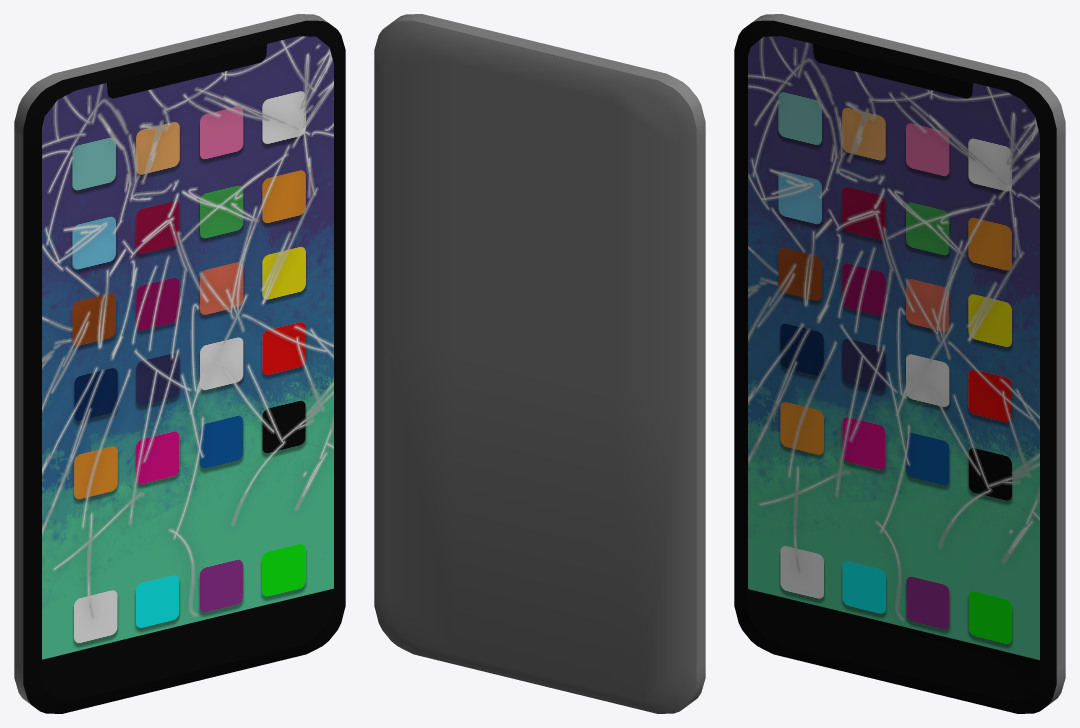
Rendered from Phone.fbx.
The picture shows the model from 3 angles, left to right: view 1: azimuth 30°, elevation 25°; view 2: azimuth 150°, elevation 25°; view 3: azimuth 330°, elevation 25°; orthographic projection.
Visible parts, largest first — view 1: Cellphone; view 2: Cellphone; view 3: Cellphone.
Part boxes in pixels (x1,y1,x2,y2): Cellphone: (14,14,345,713); Cellphone: (374,14,705,713); Cellphone: (734,14,1065,713).
Size of the model in its own units: 259 by 486 by 19.48.
